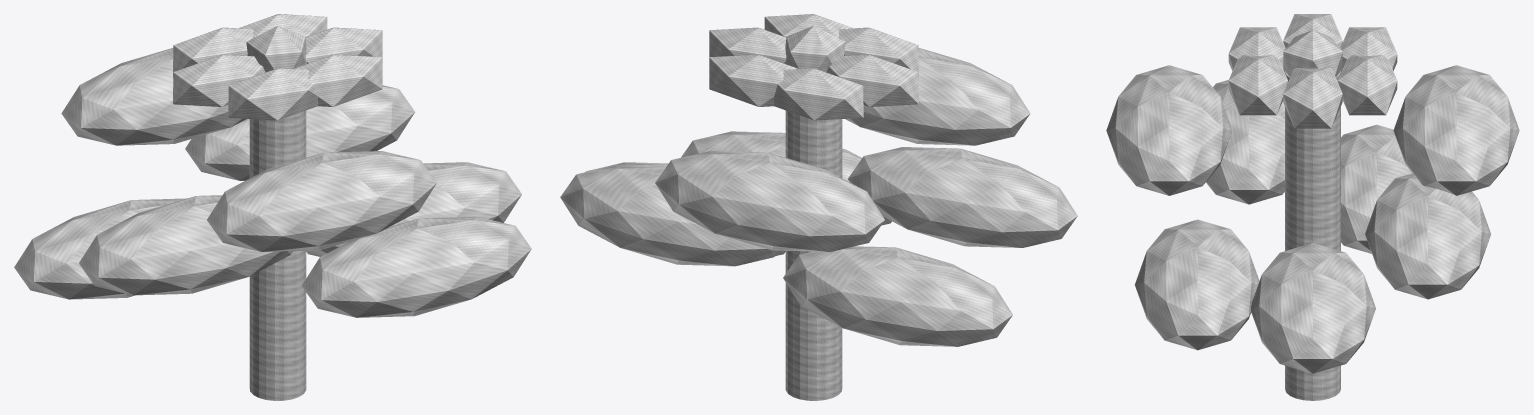
The model's file is flora-flower-petals_variant_b.glb.
The picture shows the model from 3 angles, left to right: view 1: azimuth 30°, elevation 25°; view 2: azimuth 150°, elevation 25°; view 3: azimuth 270°, elevation 25°; orthographic projection.
Parts seen in each view (by area): view 1: Leaf cluster.012, Leaf cluster.013, Leaf cluster.011, Plant stem.001, Leaf cluster.009, Leaf cluster.008, Leaf cluster.010, Leaf cluster.007, Flower petal.011, Flower petal.010, Flower petal.012, Flower petal.007 (+3 smaller); view 2: Leaf cluster.009, Leaf cluster.010, Leaf cluster.011, Leaf cluster.008, Leaf cluster.012, Plant stem.001, Flower petal.009, Flower petal.010, Flower petal.008, Leaf cluster.013, Flower petal.007, Flower petal.011 (+2 smaller); view 3: Leaf cluster.012, Leaf cluster.007, Leaf cluster.009, Leaf cluster.013, Leaf cluster.008, Plant stem.001, Leaf cluster.011, Leaf cluster.010, Flower petal.007, Flower petal.008, Flower petal.012, Flower center.002 (+3 smaller).
Part boxes in pixels (box(x1,y1,x2,y2)): Leaf cluster.012: box(207, 151, 436, 251); Leaf cluster.013: box(301, 216, 531, 317); Leaf cluster.011: box(79, 195, 292, 295); Plant stem.001: box(249, 110, 306, 400); Leaf cluster.009: box(61, 48, 246, 145); Leaf cluster.008: box(185, 85, 414, 180); Leaf cluster.010: box(14, 198, 186, 299); Leaf cluster.007: box(306, 162, 521, 256); Flower petal.011: box(228, 68, 317, 120); Flower petal.010: box(173, 54, 265, 106); Flower petal.012: box(293, 54, 382, 106); Flower petal.007: box(305, 27, 382, 63); Leaf cluster.009: box(655, 151, 884, 251); Leaf cluster.010: box(783, 246, 1012, 346); Leaf cluster.011: box(848, 147, 1077, 247); Leaf cluster.008: box(560, 165, 778, 266); Leaf cluster.012: box(845, 48, 1030, 145); Plant stem.001: box(785, 110, 842, 400); Flower petal.009: box(774, 68, 863, 120); Flower petal.010: box(826, 54, 918, 106); Flower petal.008: box(709, 54, 798, 106); Leaf cluster.013: box(681, 131, 891, 225); Flower petal.007: box(709, 27, 786, 63); Flower petal.011: box(838, 27, 918, 76); Leaf cluster.012: box(1106, 65, 1232, 195); Leaf cluster.007: box(1251, 243, 1375, 373); Leaf cluster.009: box(1393, 65, 1519, 195); Leaf cluster.013: box(1135, 219, 1259, 350); Leaf cluster.008: box(1365, 173, 1490, 299); Plant stem.001: box(1285, 71, 1340, 400); Leaf cluster.011: box(1206, 80, 1284, 204); Leaf cluster.010: box(1341, 124, 1412, 253); Flower petal.007: box(1283, 68, 1342, 128); Flower petal.008: box(1338, 55, 1397, 115); Flower petal.012: box(1228, 55, 1287, 115); Flower center.002: box(1283, 30, 1342, 77).
Size of what is drawn, in the model's own units: 1.48 by 1.13 by 1.18.
Materials: 4 (4 with a texture image).
